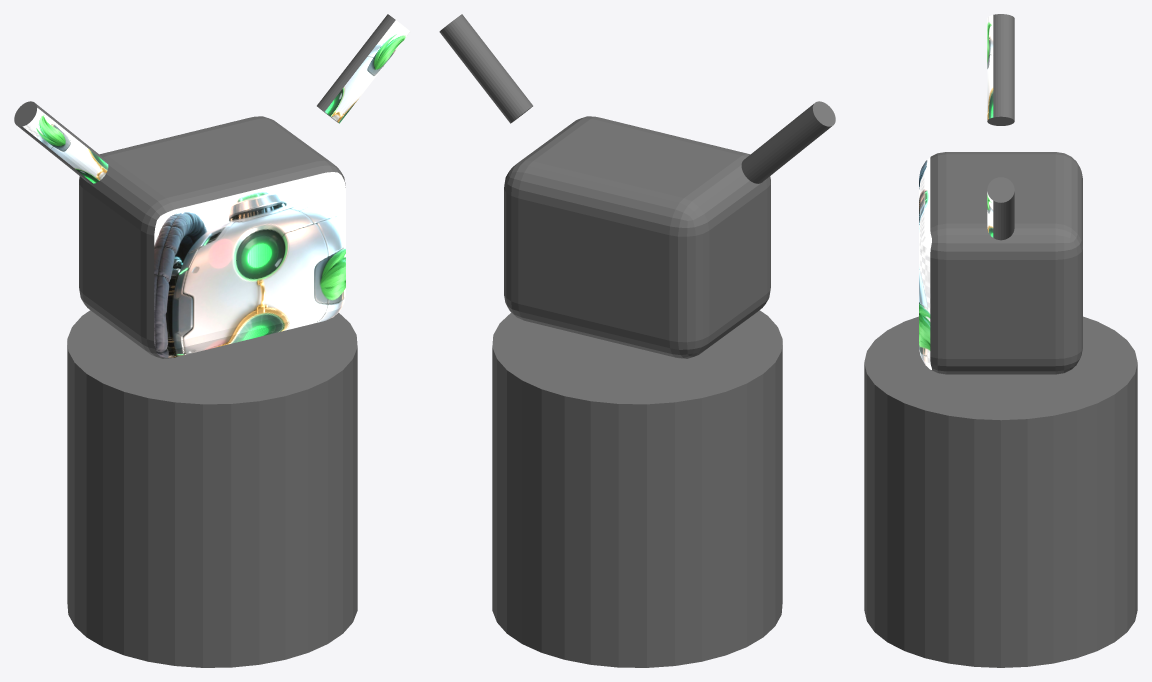
File: accountant_procedural_final.glb
3 views of the same model, side by side, from view 1: azimuth 30°, elevation 25°; view 2: azimuth 150°, elevation 25°; view 3: azimuth 270°, elevation 25° (orthographic). The views are drawn at different scales.
Visible parts, largest first — view 1: ProceduralBot; view 2: ProceduralBot; view 3: ProceduralBot.
Boxes of the visible parts, x1,y1,x2,y2 form: ProceduralBot: [14, 14, 410, 667]; ProceduralBot: [439, 14, 835, 667]; ProceduralBot: [864, 14, 1137, 667].
Size of the model in its own units: 1.55 by 2.08 by 1.
2 materials, 1 textured.
